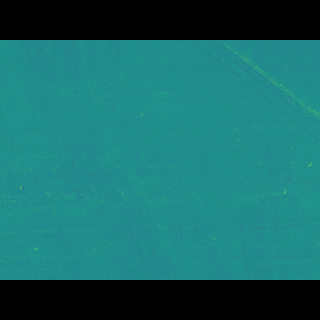Loch: (0, 147, 310, 252), (13, 69, 169, 235), (188, 70, 320, 152)
